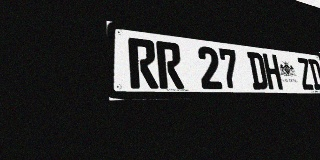2: (197, 46, 222, 89)
7: (217, 48, 241, 89)
D: (247, 51, 269, 89), (308, 59, 320, 90)
H: (262, 53, 283, 90)
R: (128, 37, 159, 89), (156, 41, 184, 89)
Z: (296, 57, 314, 90)
